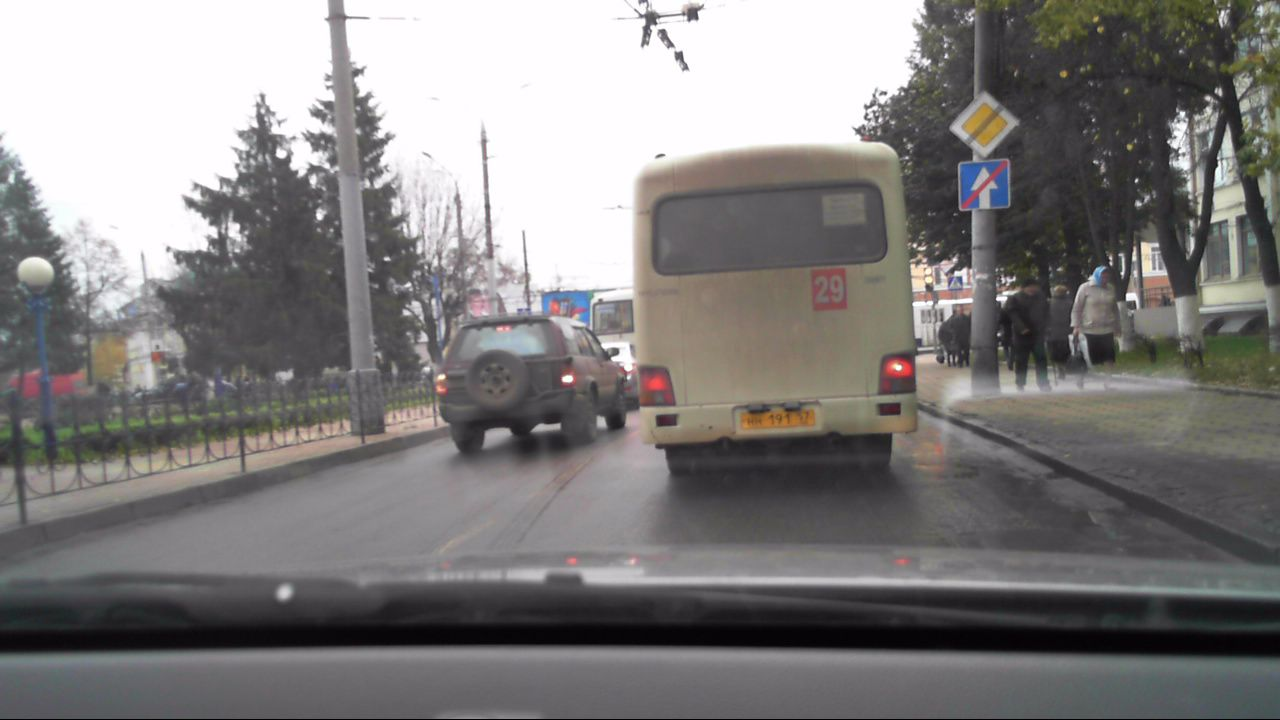main road: (947, 93, 1016, 157)
